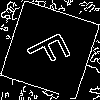F: (25, 25, 80, 74)
